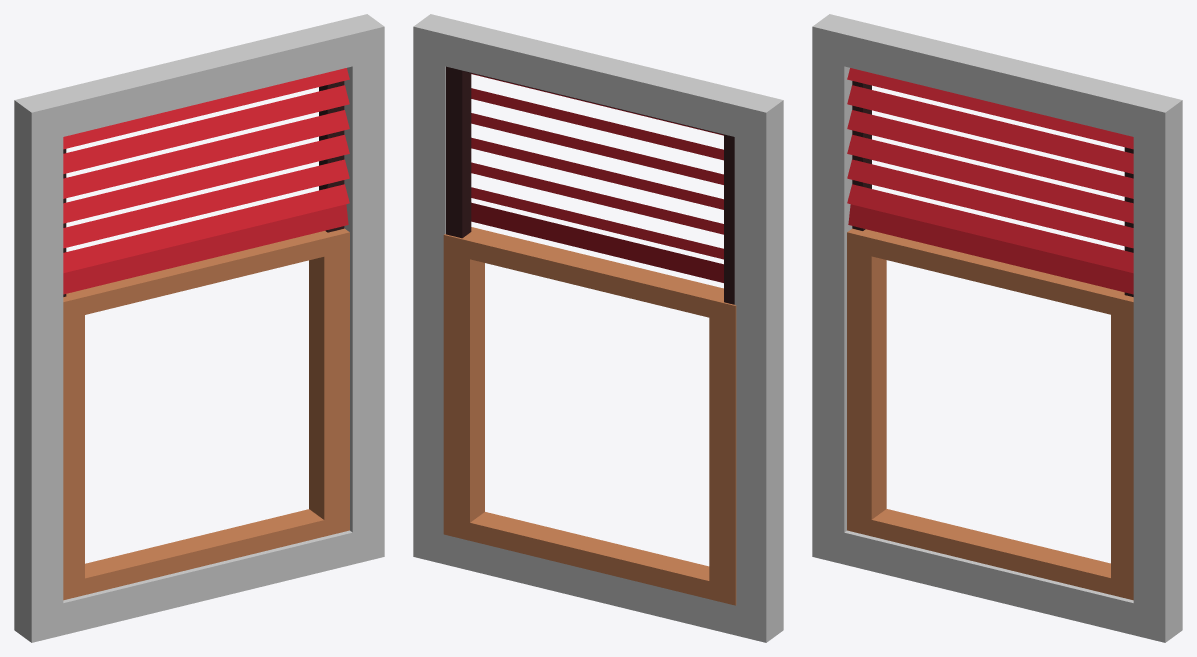
Rendered from Window.fbx.
The picture shows the model from 3 angles, left to right: view 1: azimuth 30°, elevation 25°; view 2: azimuth 150°, elevation 25°; view 3: azimuth 330°, elevation 25°; orthographic projection.
Parts seen in each view (by area): view 1: Window-Edge; view 2: Window-Edge; view 3: Window-Edge.
Part boxes in pixels (x1=…): Window-Edge: x1=14, y1=14, x2=384, y2=642; Window-Edge: x1=413, y1=14, x2=783, y2=642; Window-Edge: x1=812, y1=14, x2=1182, y2=642.
Size of the model in its own units: 2.68 by 3.85 by 0.2369.
